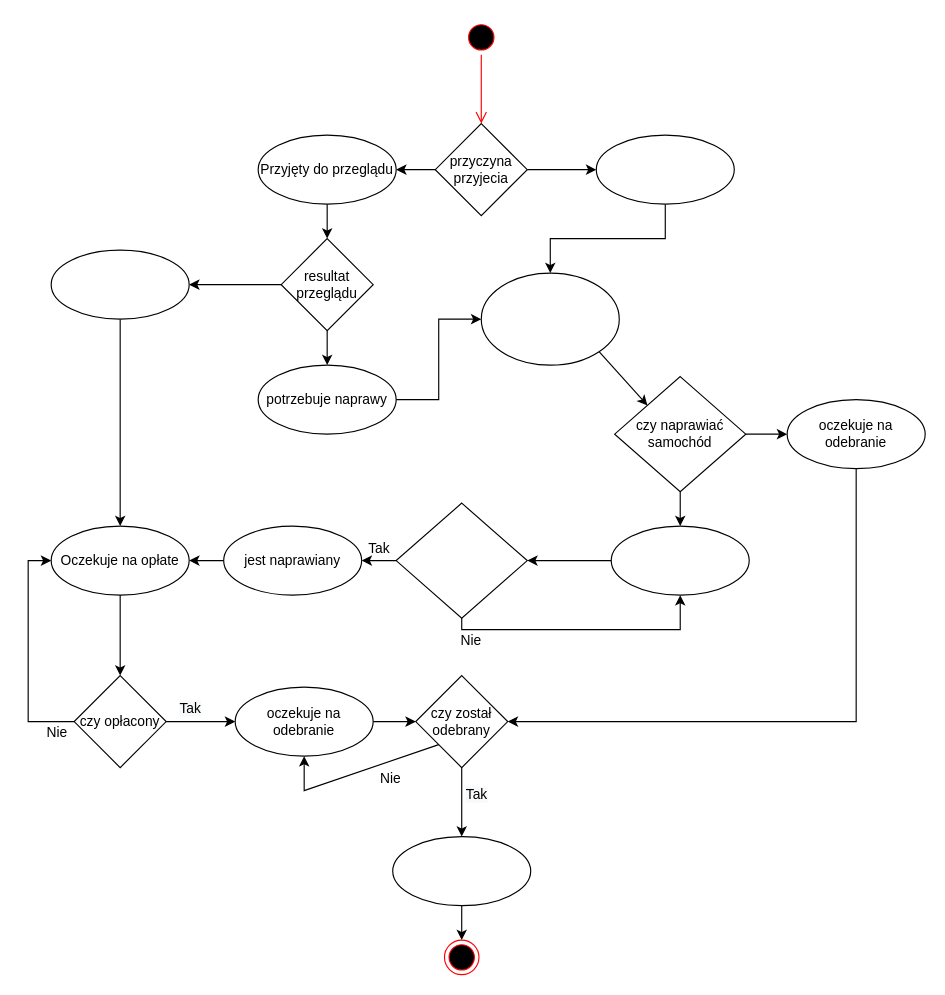
Image size: 945x995. Some labels were removed from this diagram. Each missing label, with the centre of its shape:
czy jest w trakcie naprawy: the point at 461,560
Diagnoza problemów samochodu: the point at 549,318
oczekuje na naprawianie: the point at 679,560
odebrany: the point at 461,870
przyjęty do naprawy: the point at 664,169
samochód naprawiony: the point at 119,284
